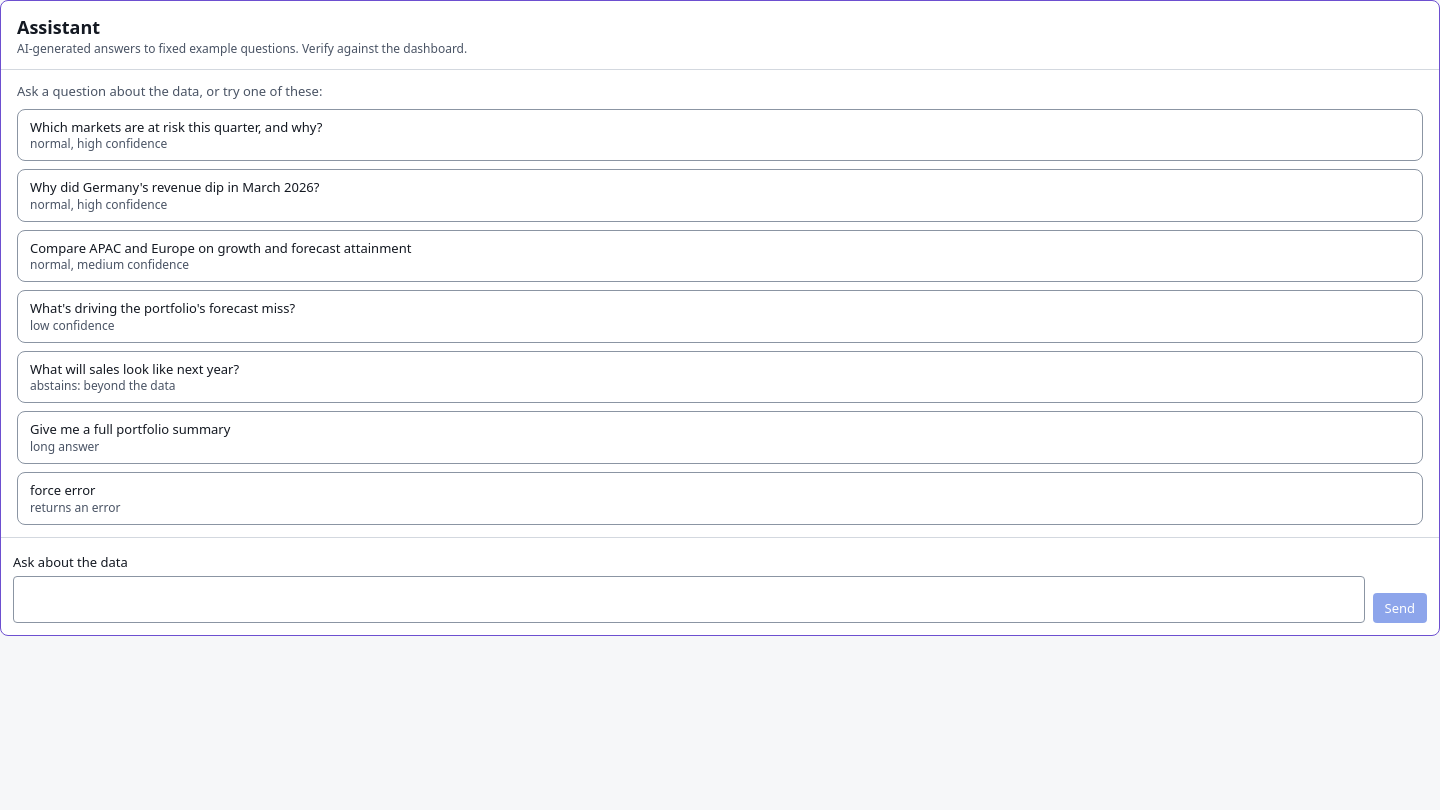
Test: AssistantPanel › EOF without done is shown as incomplete, distinct from stopped
This screenshot has width=1440, height=810.
In the text box labelled "Ask about the data": (689, 600) top-left (13, 576), bottom-right (1364, 623), type "germany"
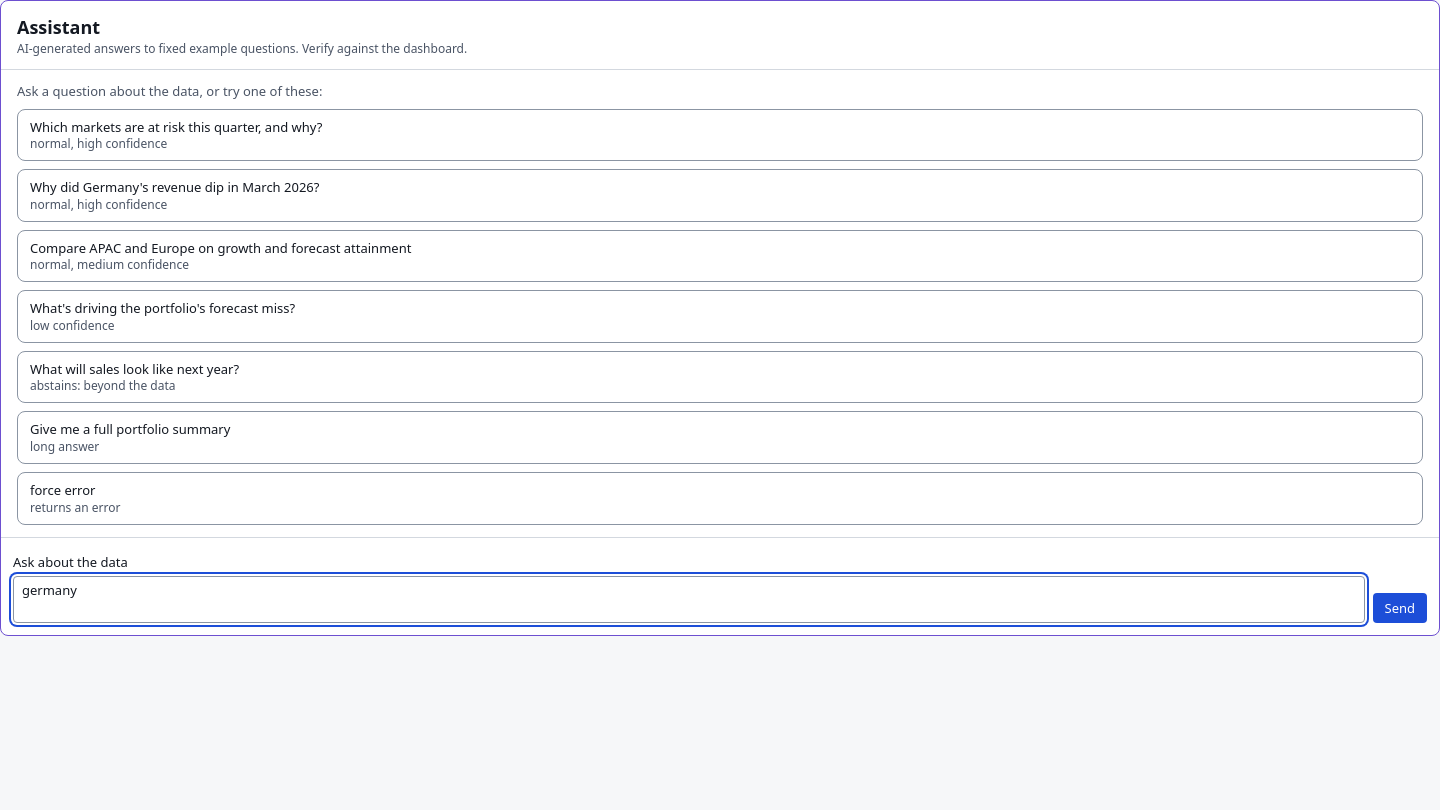
Click the button "Send": (1400, 608) top-left (1372, 593), bottom-right (1427, 623)
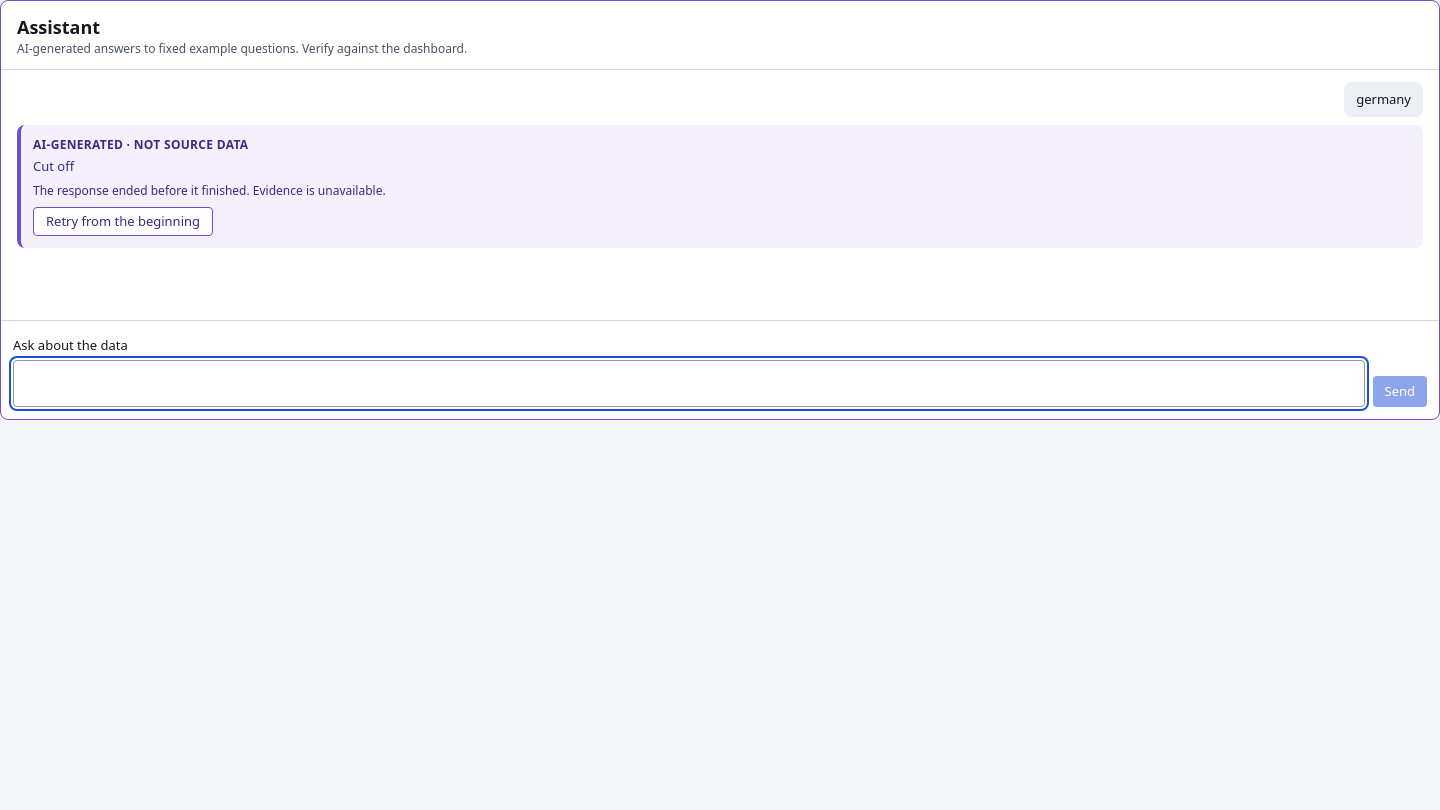
Expected: the text "Cut off" is shown, top-left (33, 157), bottom-right (78, 175)
Expected: the text "ended before it finished" is shown, top-left (33, 182), bottom-right (386, 199)
